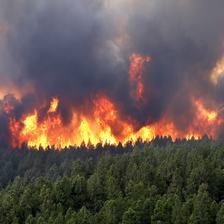fire: (4, 79, 219, 157)
